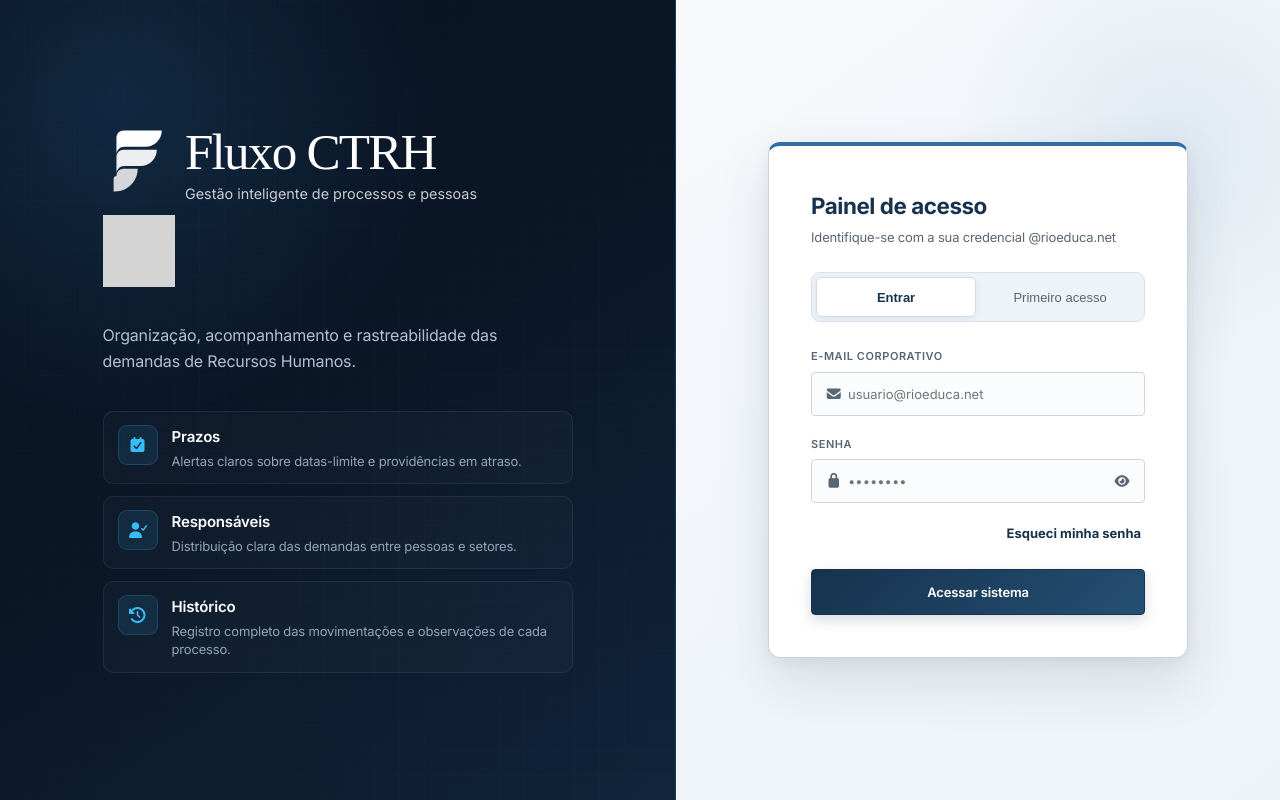
Test case: segurança e acessibilidade do login › apresenta validação contextual no login sem recorrer à validação nativa
Click the button "Acessar sistema" at (978, 592), box [811, 570, 1145, 616]
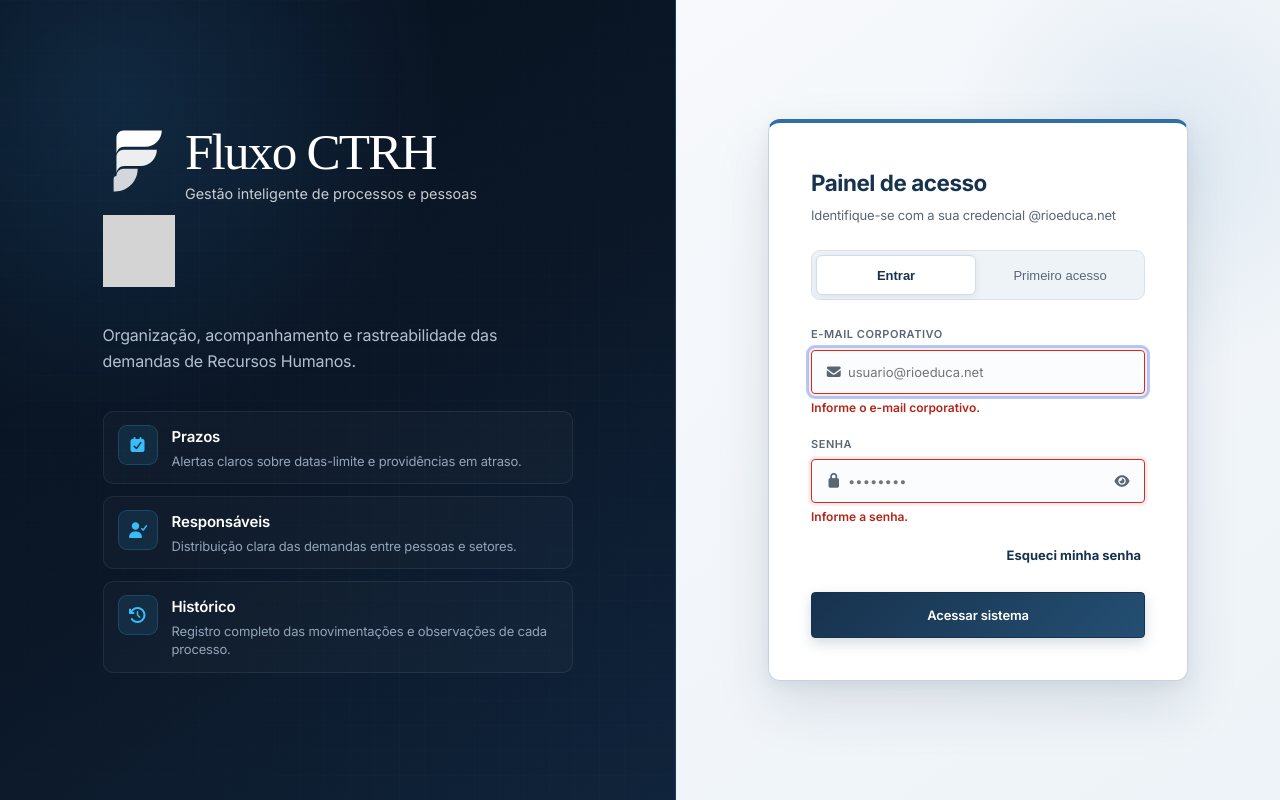
Expected: the text "Informe o e-mail corporativo." is shown, [811, 400, 980, 415]
Expected: the text "Informe a senha." is shown, [811, 510, 908, 524]
